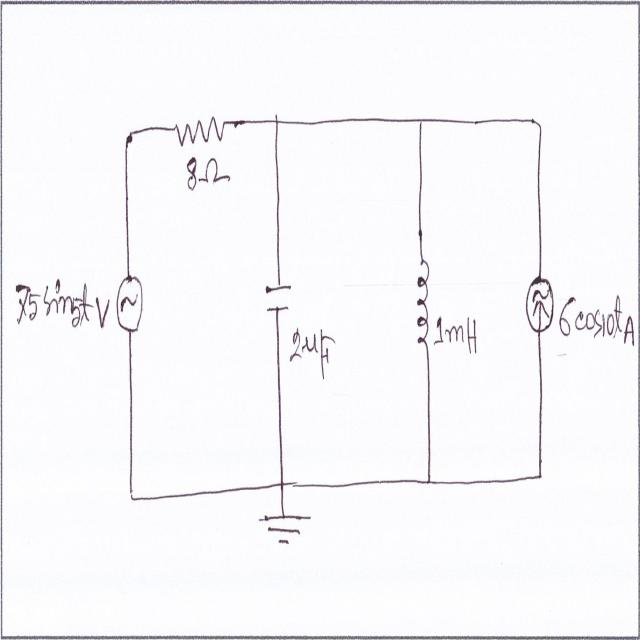ac_current: (116, 270, 146, 338)
capacitor: (264, 278, 293, 316)
current_source: (525, 266, 556, 341)
ground: (256, 509, 316, 553)
inductor: (412, 256, 434, 360)
resistor: (173, 108, 228, 154)
